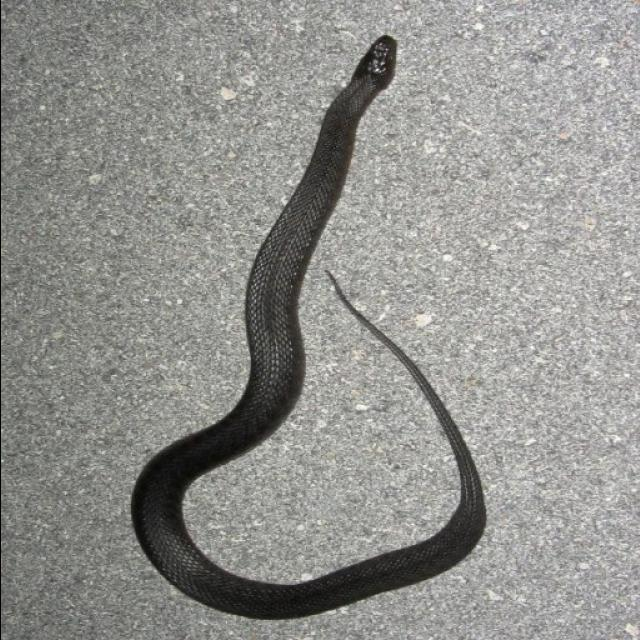snake: (120, 24, 520, 638)
